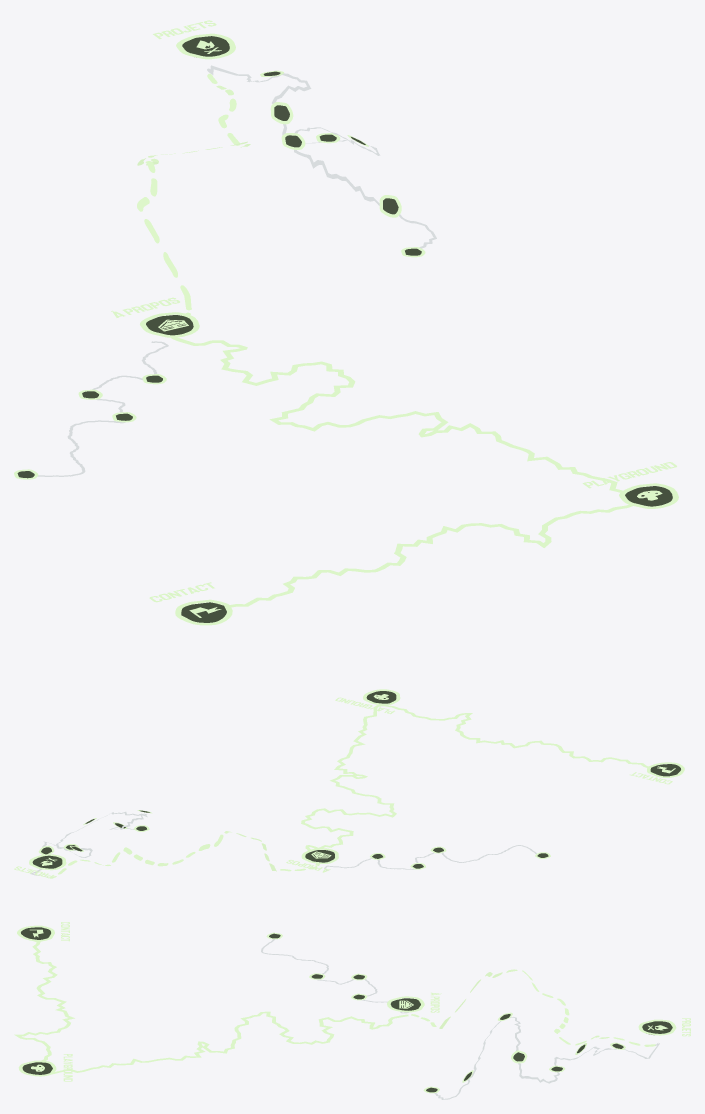
File: sanrita-trails@fr.glb
3 views of the same model, one above another, from view 1: azimuth 30°, elevation 25°; view 2: azimuth 150°, elevation 25°; view 3: azimuth 270°, elevation 25° (orthographic). The views are drawn at different scales.
Parts seen in each view (by area): view 1: trail-main-path, trail-project-path; view 2: trail-main-path, trail-project-path, trail-about-path; view 3: trail-main-path, trail-project-path, trail-about-path.
Boxes of the visible parts, x1,y1,x2,y2 form: trail-main-path: (137, 73, 632, 607); trail-project-path: (207, 65, 436, 248); trail-main-path: (48, 705, 648, 878); trail-project-path: (30, 811, 147, 877); trail-about-path: (324, 845, 536, 870); trail-main-path: (14, 941, 655, 1073); trail-project-path: (434, 1017, 659, 1099); trail-about-path: (261, 939, 408, 1013).
Bounding box in the file's own units: 1.39 × 0.3267 × 2.14.
